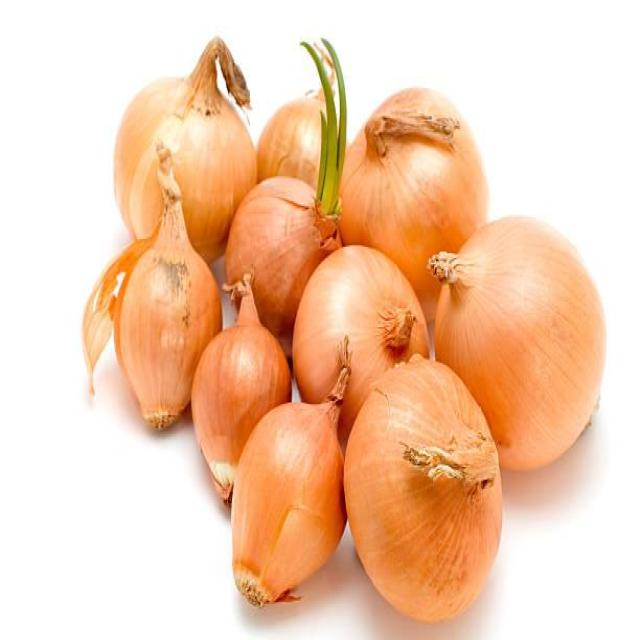Onion: (435, 217, 604, 465), (345, 354, 501, 621), (340, 86, 486, 319), (115, 38, 256, 259), (117, 142, 221, 428), (293, 245, 429, 450), (191, 280, 291, 502), (231, 401, 345, 593), (225, 176, 341, 338), (258, 88, 324, 189)
